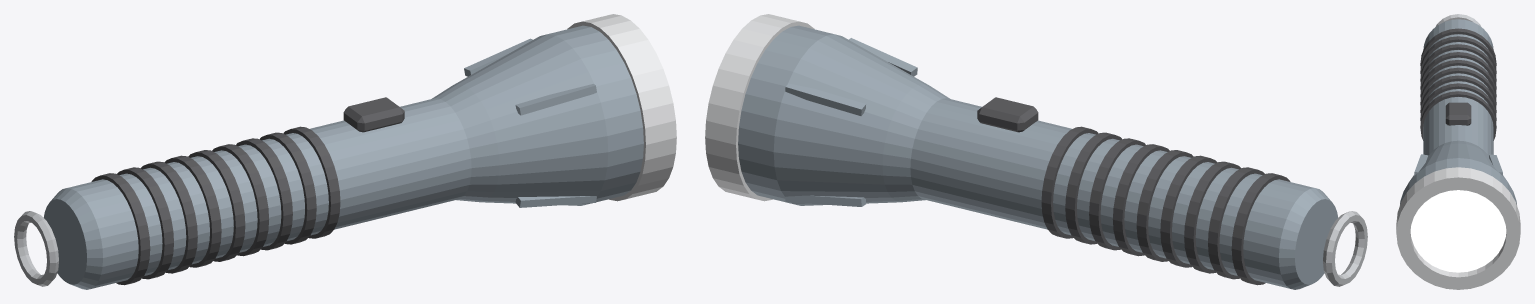
File: lanterna.glb
3 views of the same model, side by side, from view 1: azimuth 30°, elevation 25°; view 2: azimuth 150°, elevation 25°; view 3: azimuth 270°, elevation 25° (orthographic). The views are drawn at different scales.
Parts seen in each view (by area): view 1: lanterna_aco_pintado, lanterna_borracha, lanterna_aco_polido, lanterna_aco; view 2: lanterna_aco_pintado, lanterna_borracha, lanterna_aco_polido, lanterna_aco; view 3: lanterna_aco_pintado, lanterna_aco_polido, lanterna_lamp_glass, lanterna_borracha, lanterna_aco.
Boxes of the visible parts, <box> form: lanterna_aco_pintado: <box>43,25,643,289</box>; lanterna_borracha: <box>91,97,404,285</box>; lanterna_aco_polido: <box>567,14,676,201</box>; lanterna_aco: <box>14,211,58,286</box>; lanterna_aco_pintado: <box>738,25,1338,289</box>; lanterna_borracha: <box>977,97,1290,285</box>; lanterna_aco_polido: <box>705,14,814,201</box>; lanterna_aco: <box>1323,211,1367,286</box>; lanterna_aco_pintado: <box>1400,19,1516,204</box>; lanterna_aco_polido: <box>1396,167,1520,289</box>; lanterna_lamp_glass: <box>1410,190,1506,272</box>; lanterna_borracha: <box>1420,28,1496,140</box>; lanterna_aco: <box>1435,14,1481,26</box>.
Bounding box in the file's own units: 0.2519 × 0.067 × 0.067.
